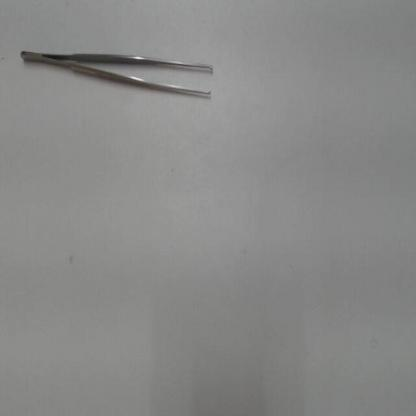Gillies Toothed Dissector: (16, 42, 228, 112)
